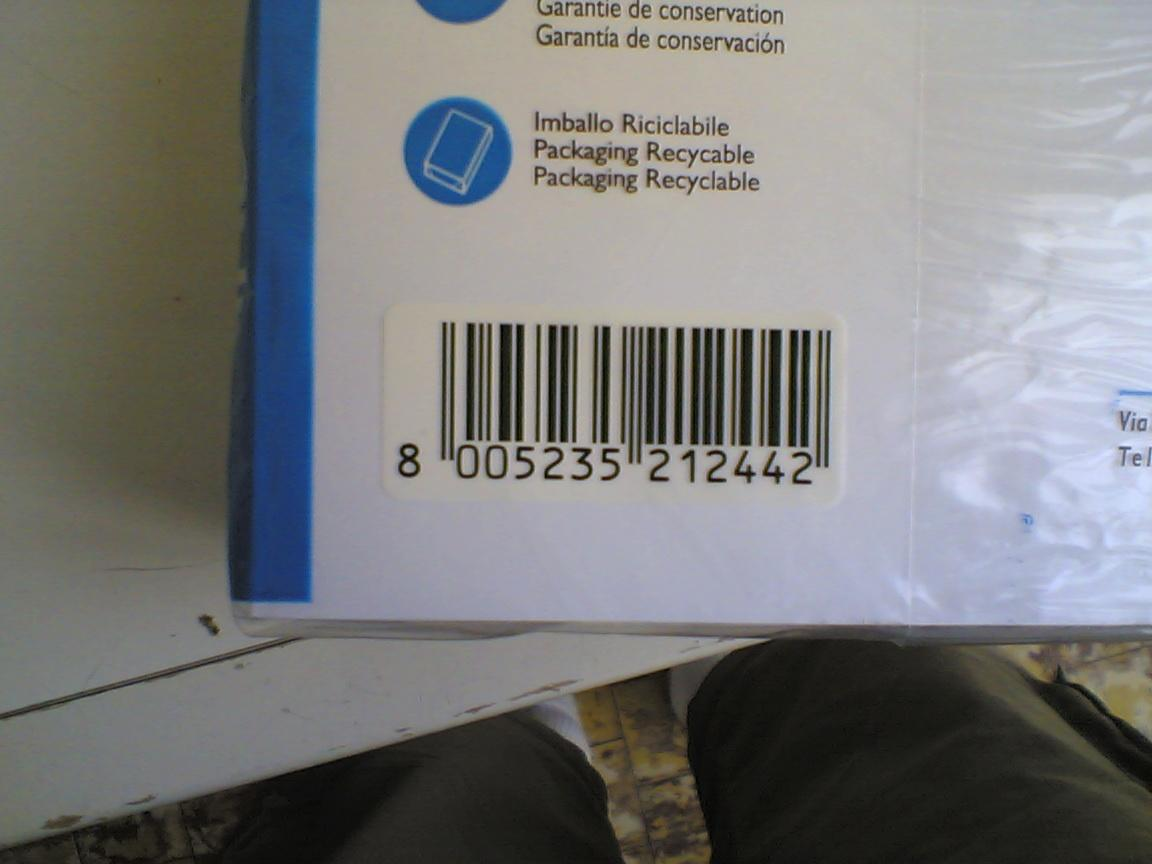Barcode: (385, 298, 847, 502)
